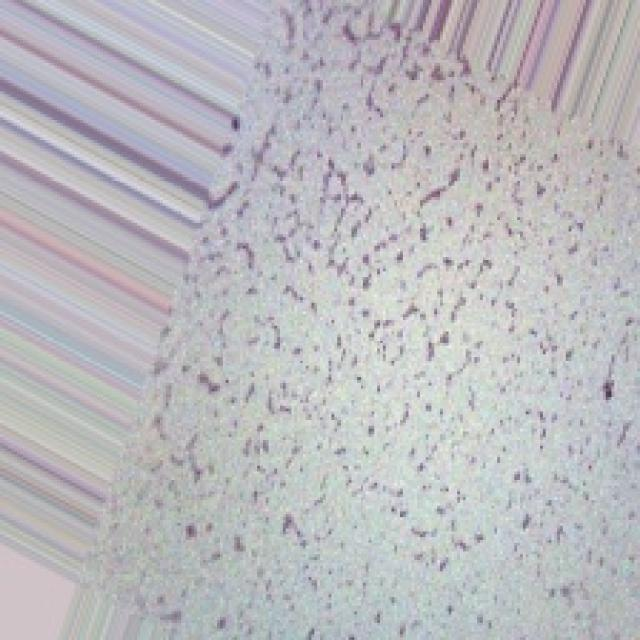Rod_bacteria: (74, 0, 637, 637)
